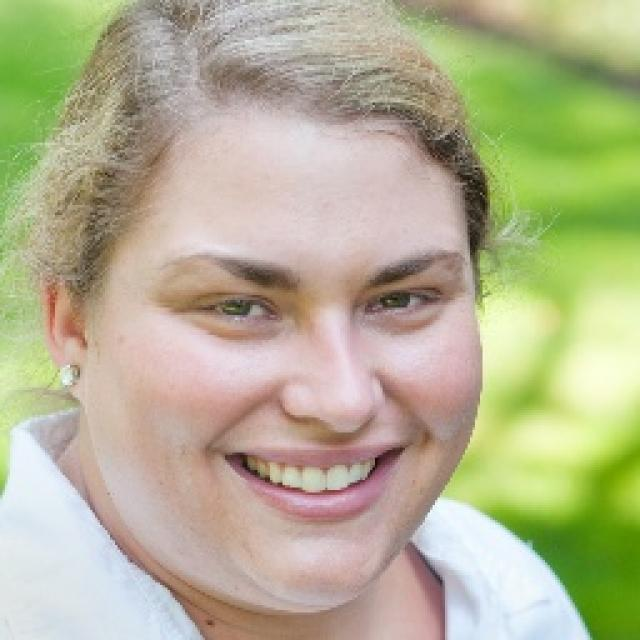earlobe: (57, 356, 89, 400)
eye: (196, 294, 281, 329), (370, 290, 446, 316)
nose: (276, 409, 390, 440)
wholeear: (34, 250, 85, 399)
